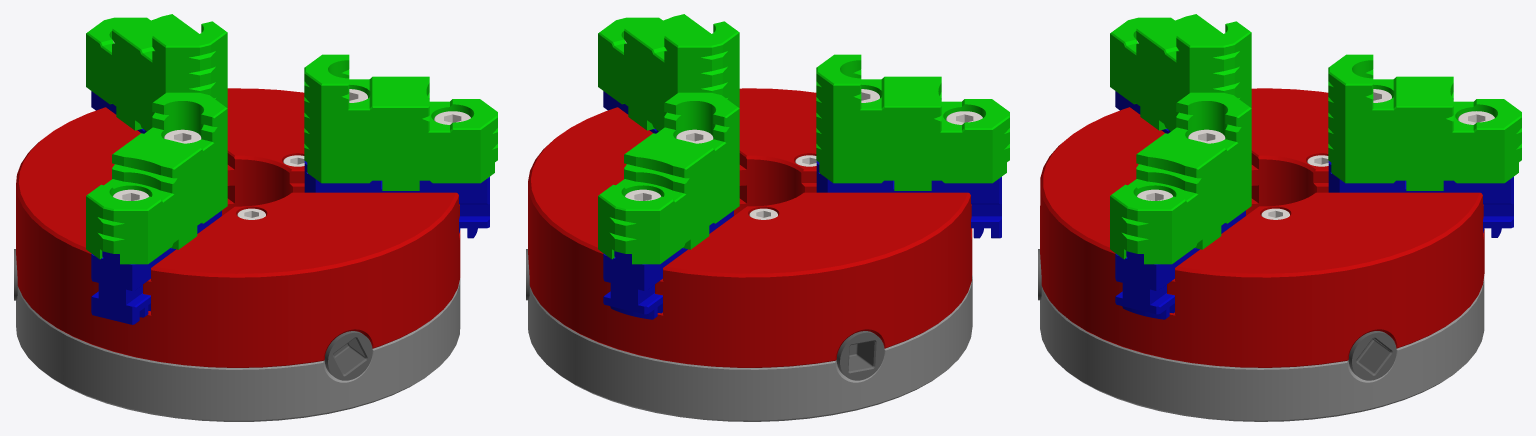
Rendered from lathe-chuck.glb.
3 renders of one model, left to right at view 1: azimuth 30°, elevation 25°; view 2: azimuth 150°, elevation 25°; view 3: azimuth 270°, elevation 25°, orthographic.
Parts seen in each view (by area): view 1: Chuck housing-1, Adapter plate-1, Hard top jaw-1, Hard top jaw-4, Hard top jaw-2, Jaw base 3-1, Jaw base 1-1, Pinion-5; view 2: Chuck housing-1, Adapter plate-1, Hard top jaw-4, Hard top jaw-2, Hard top jaw-1, Jaw base 2-1, Jaw base 3-1, Pinion-7; view 3: Chuck housing-1, Adapter plate-1, Hard top jaw-2, Hard top jaw-1, Hard top jaw-4, Jaw base 1-1, Jaw base 2-1, Pinion-4.
Part boxes in pixels (left/top/right/bottom): Chuck housing-1: left=16, top=88, right=460, bottom=367; Adapter plate-1: left=16, top=278, right=460, bottom=421; Hard top jaw-1: left=304, top=54, right=497, bottom=190; Hard top jaw-4: left=86, top=92, right=227, bottom=264; Hard top jaw-2: left=86, top=14, right=227, bottom=131; Jaw base 3-1: left=91, top=210, right=221, bottom=324; Jaw base 1-1: left=304, top=161, right=489, bottom=238; Pinion-5: left=324, top=331, right=372, bottom=380; Chuck housing-1: left=528, top=88, right=972, bottom=367; Adapter plate-1: left=528, top=275, right=972, bottom=421; Hard top jaw-4: left=816, top=54, right=1009, bottom=190; Hard top jaw-2: left=598, top=92, right=739, bottom=264; Hard top jaw-1: left=598, top=14, right=739, bottom=131; Jaw base 2-1: left=603, top=210, right=733, bottom=319; Jaw base 3-1: left=816, top=161, right=1001, bottom=238; Pinion-7: left=836, top=331, right=884, bottom=380; Chuck housing-1: left=1040, top=88, right=1484, bottom=367; Adapter plate-1: left=1040, top=276, right=1484, bottom=421; Hard top jaw-2: left=1328, top=54, right=1521, bottom=190; Hard top jaw-1: left=1110, top=92, right=1251, bottom=264; Hard top jaw-4: left=1110, top=14, right=1251, bottom=131; Jaw base 1-1: left=1115, top=210, right=1245, bottom=319; Jaw base 2-1: left=1328, top=161, right=1513, bottom=237; Pinion-4: left=1348, top=331, right=1396, bottom=380.
Size of the model in its own units: 0.16 by 0.106 by 0.1686.
